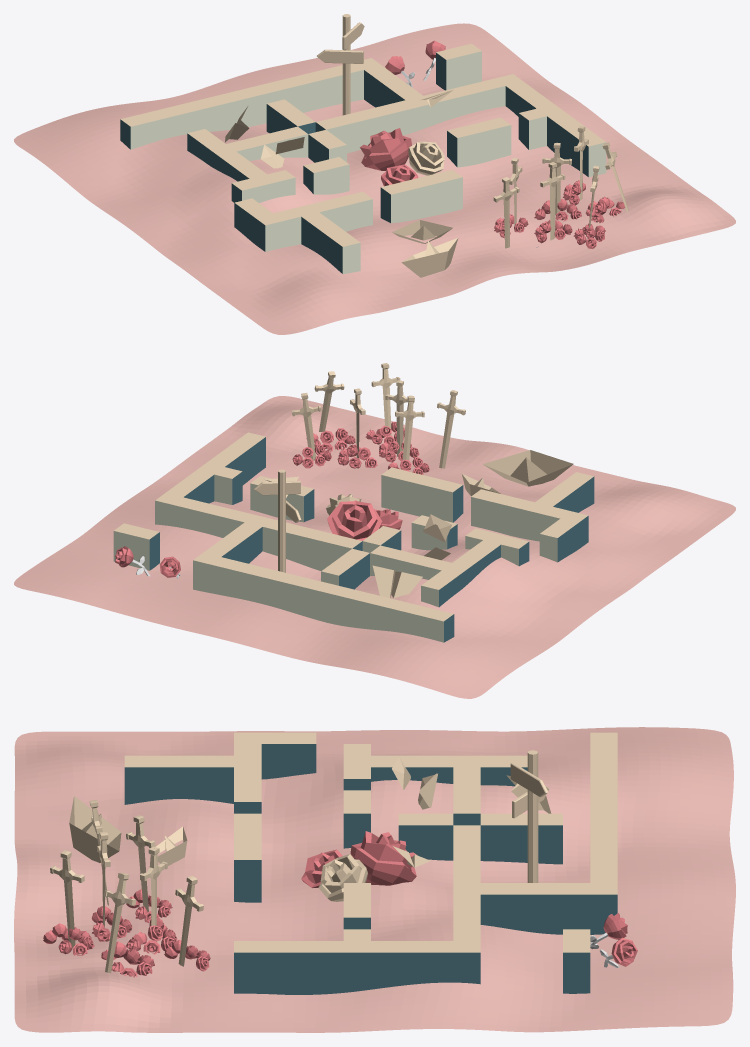
3 renders of one model, top to bottom at view 1: azimuth 30°, elevation 25°; view 2: azimuth 150°, elevation 25°; view 3: azimuth 270°, elevation 25°, orthographic. The views are drawn at different scales.
Parts seen in each view (by area): view 1: Plane.014, Plane, Rose.065, PaperBoat.002, Rose.064, PaperBoat.001, Cylinder.009, Plane.010, sword.003, sword.004, Rose.066; view 2: Plane.014, Plane, PaperBoat.002, Rose.065, PaperFly.001, Cylinder.009, sword.004, sword.002, sword, sword.005, sword.006, sword.003; view 3: Plane.014, Plane, Rose.065, PaperBoat.002, Rose.064, Cylinder.009, sword.006, sword.005, sword, sword.002, PaperBoat.001, sword.001 (+3 smaller).
Part boxes in pixels (x1=…): Plane.014: x1=14, y1=23, x2=735, y2=334; Plane: x1=120, y1=43, x2=606, y2=274; Rose.065: x1=360, y1=128, x2=411, y2=170; PaperBoat.002: x1=401, y1=238, x2=458, y2=277; Rose.064: x1=408, y1=141, x2=444, y2=175; PaperBoat.001: x1=392, y1=220, x2=452, y2=243; Cylinder.009: x1=342, y1=14, x2=350, y2=115; Plane.010: x1=316, y1=49, x2=363, y2=63; sword.003: x1=540, y1=162, x2=565, y2=240; sword.004: x1=493, y1=177, x2=519, y2=248; Rose.066: x1=381, y1=164, x2=418, y2=186; Plane.014: x1=14, y1=396, x2=735, y2=698; Plane: x1=113, y1=432, x2=594, y2=642; PaperBoat.002: x1=483, y1=450, x2=573, y2=486; Rose.065: x1=327, y1=500, x2=382, y2=540; PaperFly.001: x1=372, y1=565, x2=422, y2=598; Cylinder.009: x1=278, y1=469, x2=285, y2=572; sword.004: x1=437, y1=390, x2=465, y2=468; sword.002: x1=395, y1=395, x2=424, y2=460; sword: x1=291, y1=392, x2=321, y2=460; sword.005: x1=371, y1=363, x2=400, y2=435; sword.006: x1=314, y1=371, x2=344, y2=431; sword.003: x1=385, y1=380, x2=414, y2=456; Plane.014: x1=14, y1=727, x2=735, y2=1032; Plane: x1=124, y1=732, x2=617, y2=994; Rose.065: x1=350, y1=831, x2=417, y2=885; PaperBoat.002: x1=69, y1=796, x2=121, y2=862; Rose.064: x1=318, y1=854, x2=367, y2=901; Cylinder.009: x1=527, y1=750, x2=538, y2=882; sword.006: x1=103, y1=872, x2=136, y2=973; sword.005: x1=50, y1=850, x2=84, y2=947; sword: x1=175, y1=876, x2=203, y2=966; sword.002: x1=126, y1=815, x2=155, y2=911; PaperBoat.001: x1=155, y1=826, x2=187, y2=865; sword.001: x1=140, y1=846, x2=167, y2=925.
Bounding box in the file's own units: 5203 × 1324 × 5269.
